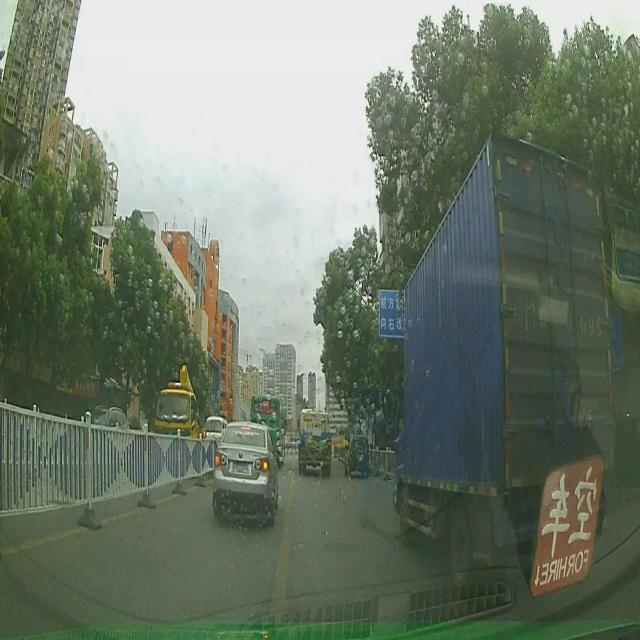car: (212, 421, 277, 529), (346, 436, 370, 479)
